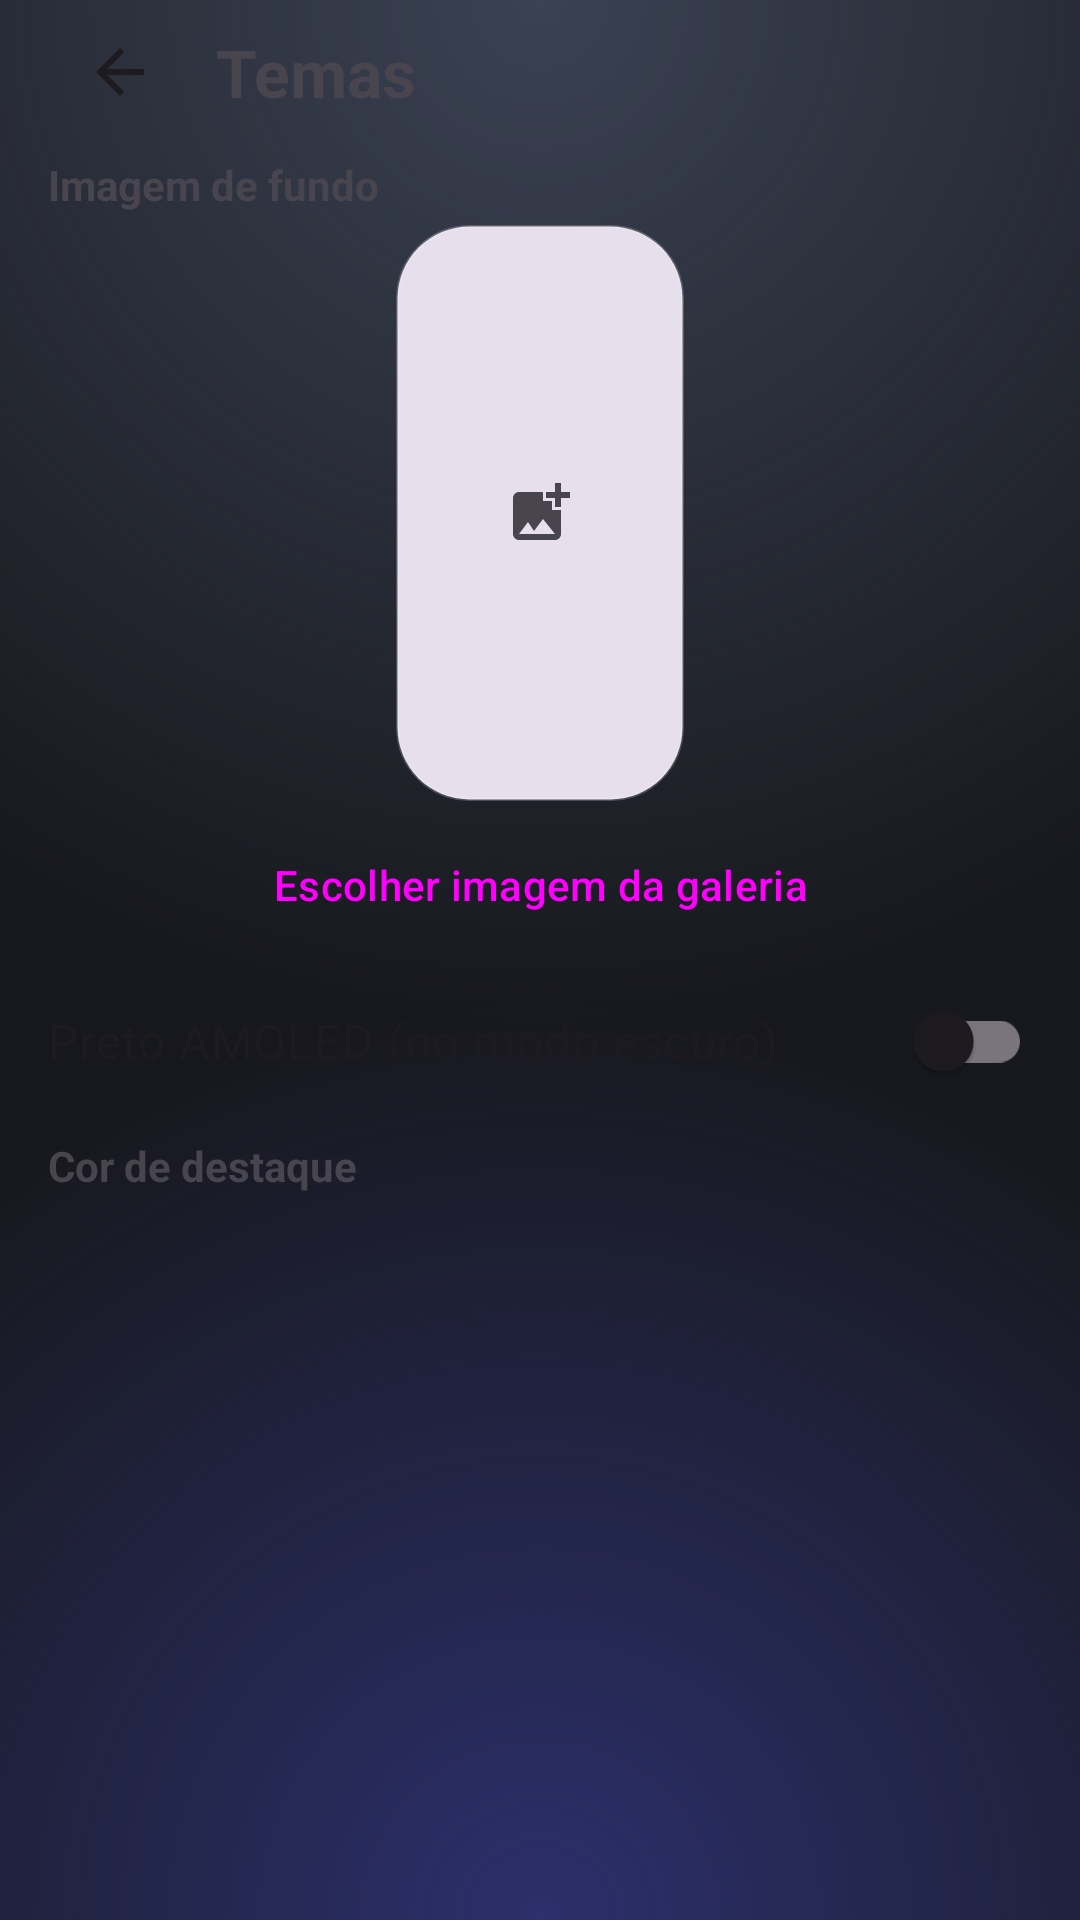

Icons on this 1080 × 1920 Android screen, each with its box as (x1, y1, x2, y2):
Voltar: (97, 49, 144, 95)
